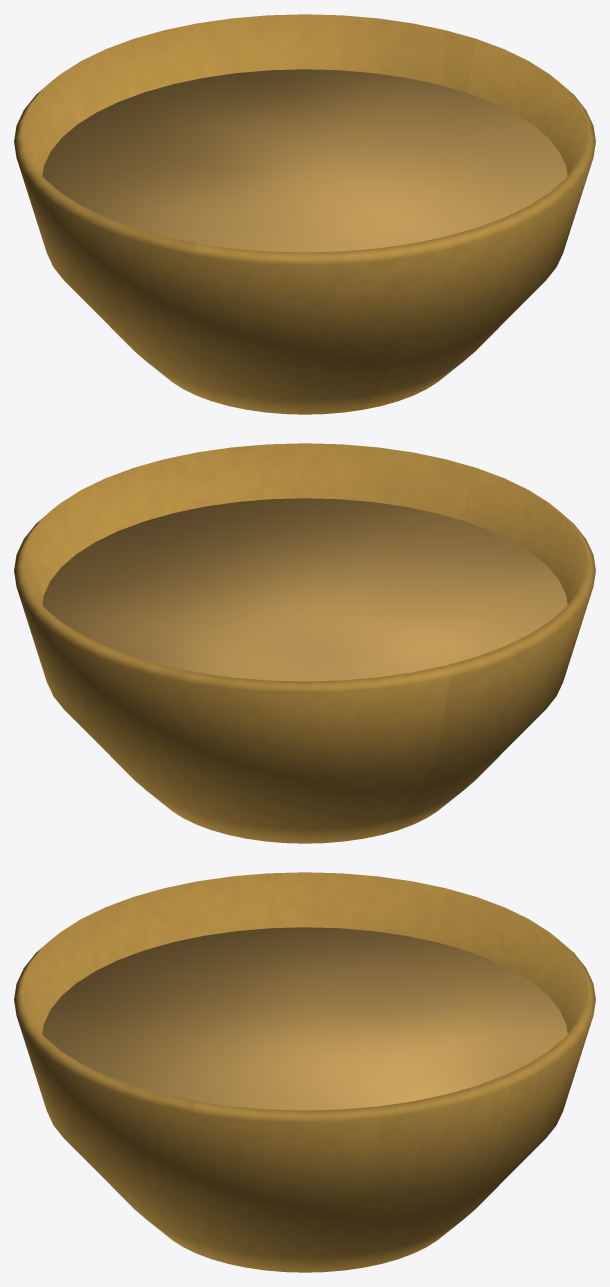
File: z2_cuenco_fragante.obj
3 renders of one model, top to bottom at view 1: azimuth 30°, elevation 25°; view 2: azimuth 150°, elevation 25°; view 3: azimuth 270°, elevation 25°, orthographic.
Visible parts, largest first — view 1: z2_cuenco_fragante; view 2: z2_cuenco_fragante; view 3: z2_cuenco_fragante.
Boxes of the visible parts, x1,y1,x2,y2 form: z2_cuenco_fragante: [14, 14, 595, 414]; z2_cuenco_fragante: [14, 443, 595, 843]; z2_cuenco_fragante: [14, 872, 595, 1272].
Size of the model in its own units: 0.19 by 0.078 by 0.19.
2 materials, 2 textured.
